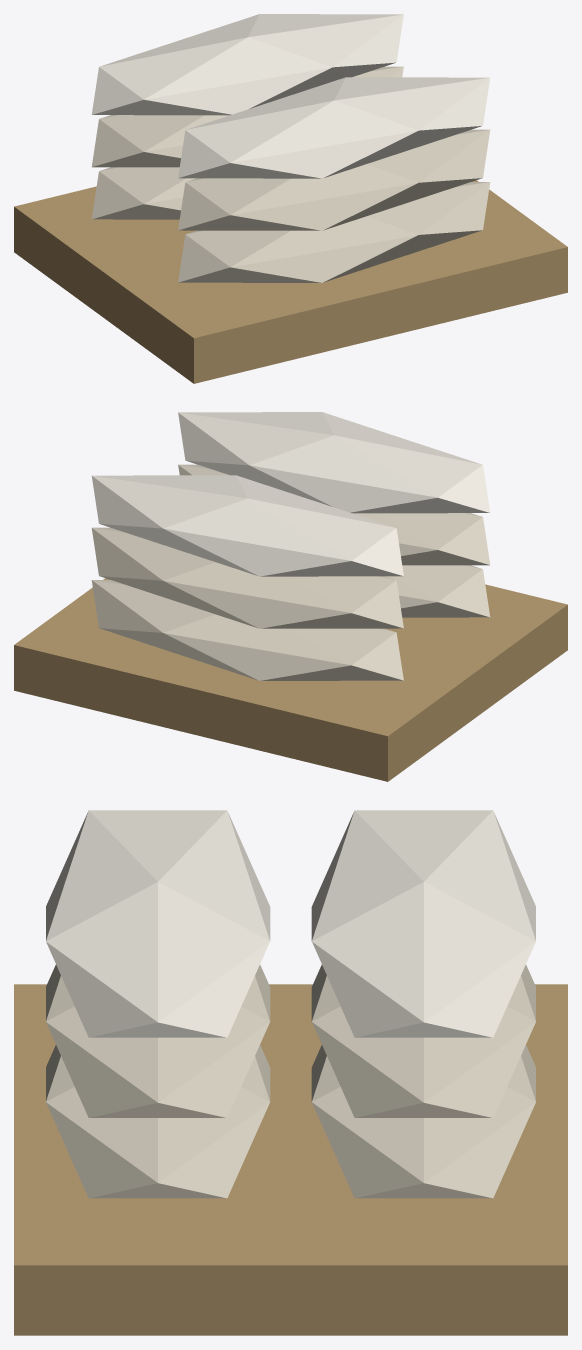
The model's file is pallet_sacks.glb.
3 renders of one model, top to bottom at view 1: azimuth 30°, elevation 25°; view 2: azimuth 150°, elevation 25°; view 3: azimuth 270°, elevation 25°, orthographic. The views are drawn at different scales.
Parts seen in each view (by area): view 1: pallet_sacks; view 2: pallet_sacks; view 3: pallet_sacks.
Boxes of the visible parts, bbox=[...] form: pallet_sacks: bbox=[14, 14, 567, 383]; pallet_sacks: bbox=[14, 412, 567, 781]; pallet_sacks: bbox=[14, 810, 567, 1335].
Bounding box in the file's own units: 1.2 × 0.624 × 1.
1 material, 1 textured.
